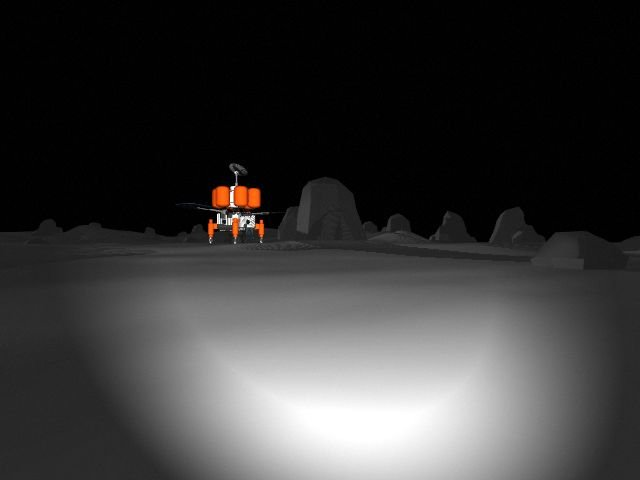homebase: (181, 161, 280, 248)
